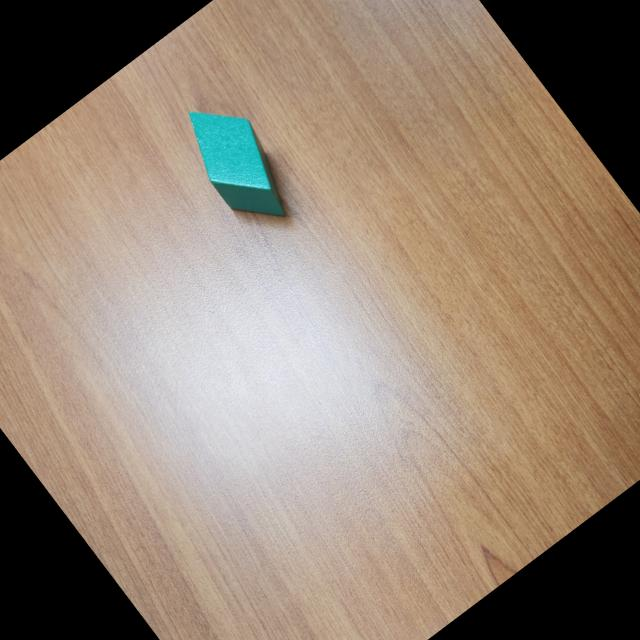green: (168, 85, 309, 241)
